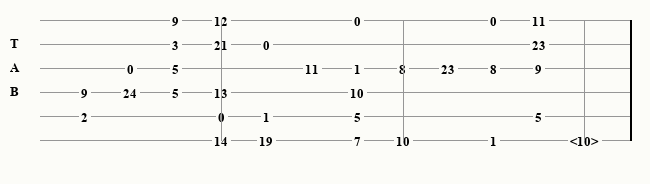0: (127, 62, 138, 75), (218, 110, 229, 123), (263, 38, 274, 51), (354, 14, 365, 27), (490, 14, 501, 27)
1: (263, 110, 274, 123), (354, 62, 365, 75), (490, 134, 501, 147)
10: (350, 86, 368, 99), (396, 134, 414, 147)
11: (305, 62, 323, 75), (532, 14, 550, 27)
12: (214, 14, 232, 27)
13: (214, 86, 232, 99)
14: (214, 134, 232, 147)
19: (259, 134, 277, 147)
2: (81, 110, 92, 123)
21: (214, 38, 232, 51)
23: (441, 62, 459, 75), (532, 38, 550, 51)
24: (123, 86, 141, 99)
3: (172, 38, 183, 51)
5: (172, 62, 183, 75), (172, 86, 183, 99), (354, 110, 365, 123), (535, 110, 546, 123)
7: (354, 134, 365, 147)
8: (399, 62, 410, 75), (490, 62, 501, 75)
9: (81, 86, 92, 99), (172, 14, 183, 27), (535, 62, 546, 75)
harmonic: (570, 134, 603, 147)
